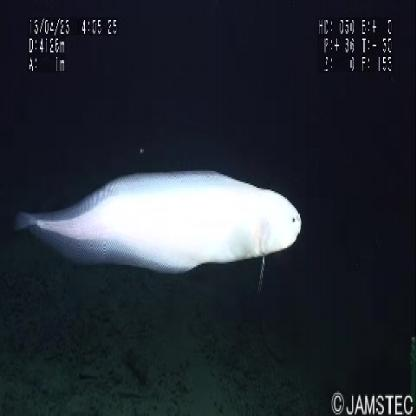Bio: (14, 163, 304, 279)
